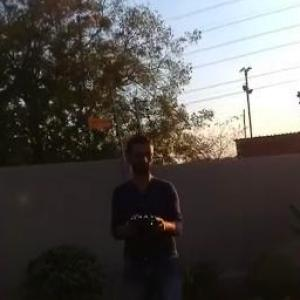follow: (104, 126, 196, 299)
